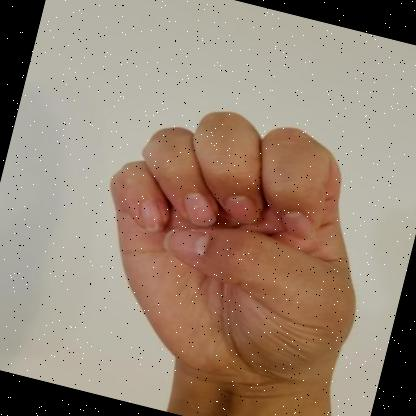E: (110, 112, 356, 416)
